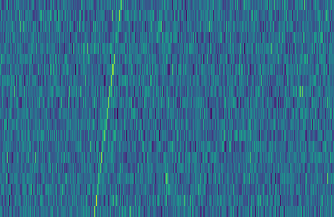signal: (88, 0, 126, 217)
